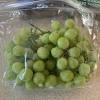Grape Rotten: (7, 18, 97, 89)
